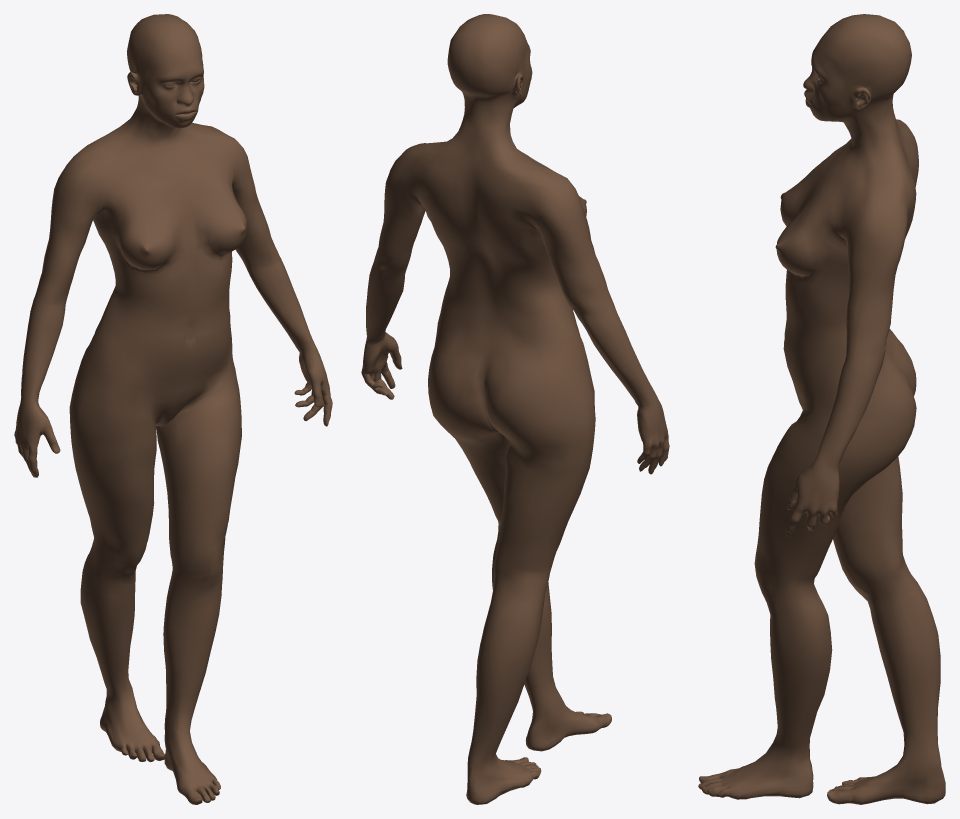
The model's file is woman statue.fbx.
3 renders of one model, left to right at view 1: azimuth 30°, elevation 25°; view 2: azimuth 150°, elevation 25°; view 3: azimuth 270°, elevation 25°, orthographic. The views are drawn at different scales.
Parts seen in each view (by area): view 1: woman_referenceMesh; view 2: woman_referenceMesh; view 3: woman_referenceMesh.
Part boxes in pixels (box(x1,y1,x2,y2)): woman_referenceMesh: box(14, 14, 332, 804); woman_referenceMesh: box(361, 14, 669, 804); woman_referenceMesh: box(698, 14, 945, 804).
Size of the model in its own units: 702 by 1653 by 466.
